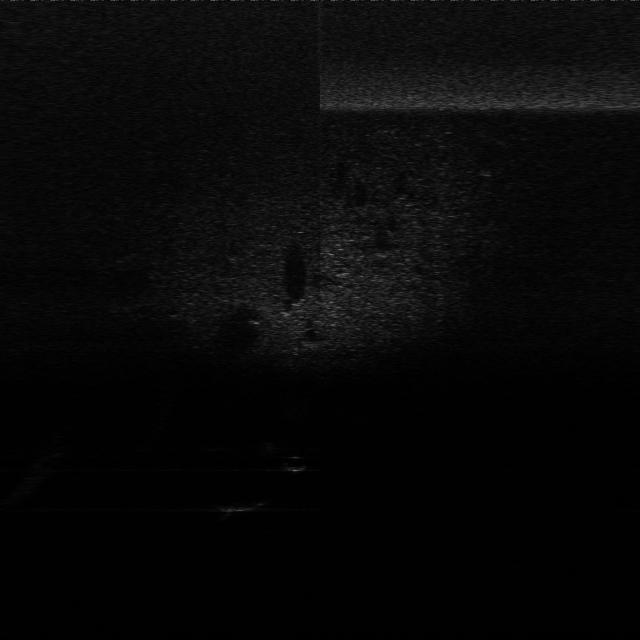ball: (280, 451, 310, 475)
square cage: (221, 494, 268, 518)
